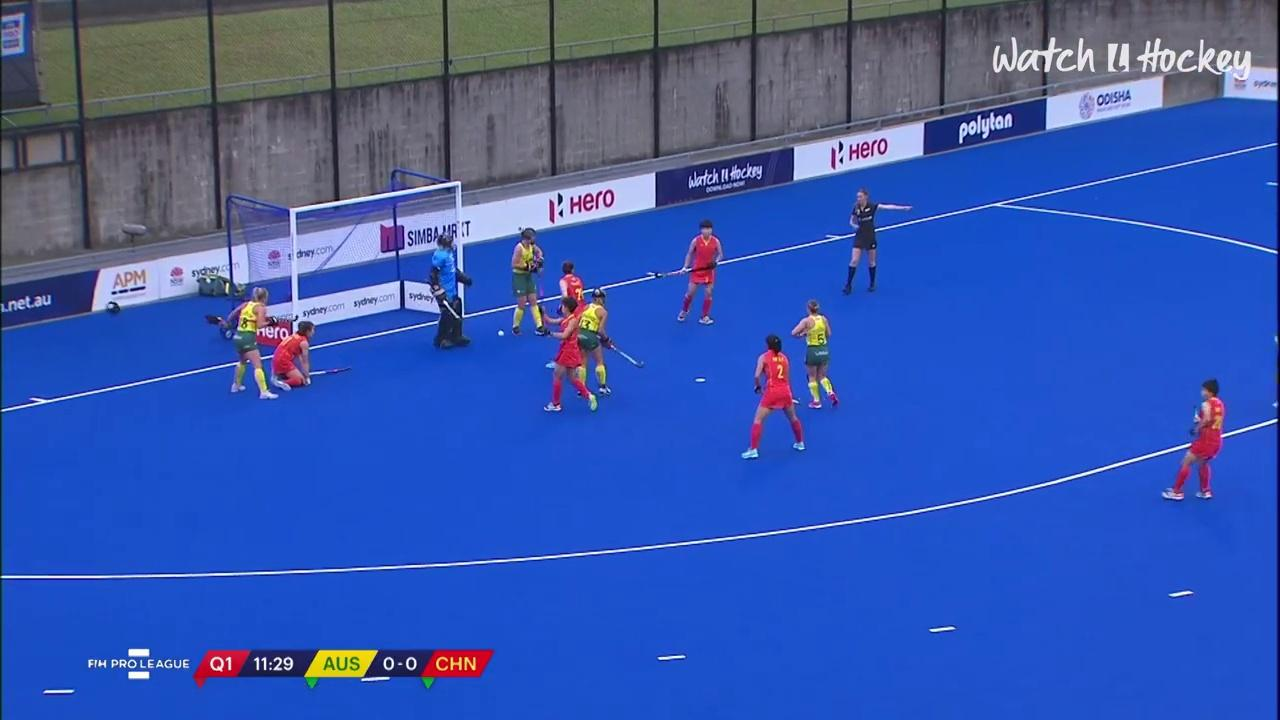ball: (494, 319, 509, 343)
